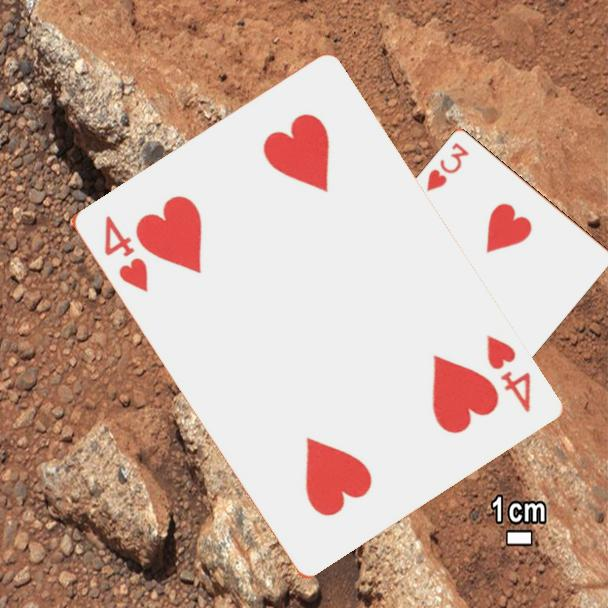h03: (423, 139, 472, 194)
h04: (481, 330, 533, 416), (99, 211, 151, 296)
